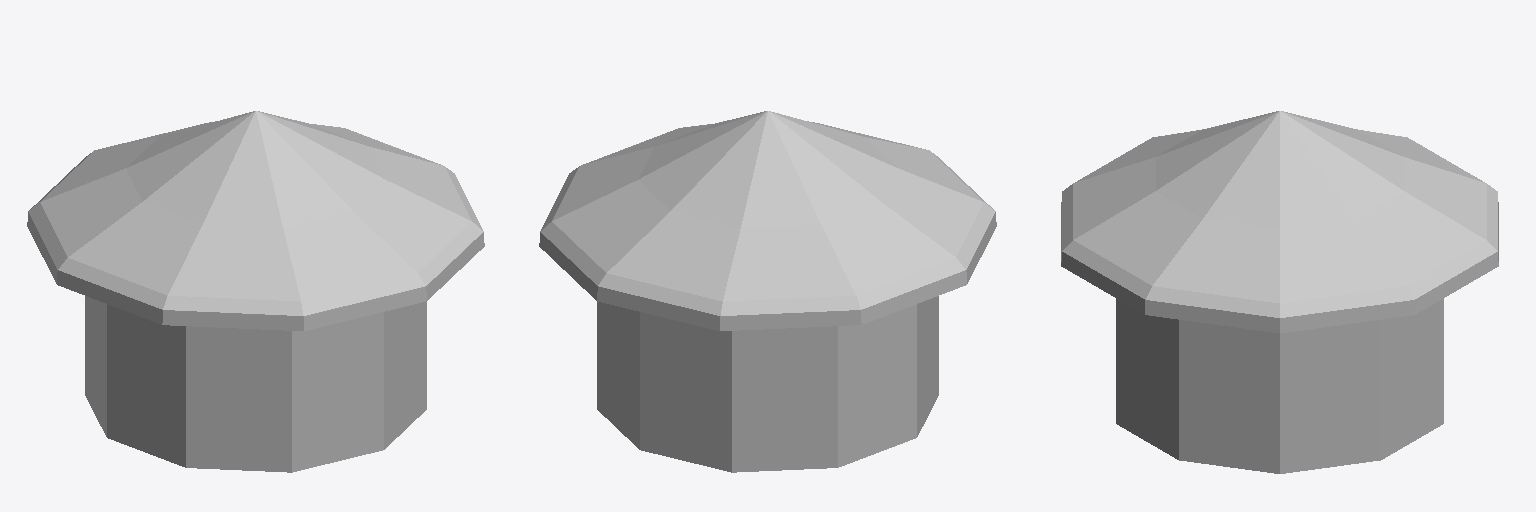
The model's file is Hut01.obj.
3 views of the same model, side by side, from view 1: azimuth 30°, elevation 25°; view 2: azimuth 150°, elevation 25°; view 3: azimuth 270°, elevation 25° (orthographic).
Parts seen in each view (by area): view 1: Hut01; view 2: Hut01; view 3: Hut01.
Boxes of the visible parts, x1=… form: Hut01: x1=27, y1=111, x2=484, y2=472; Hut01: x1=539, y1=111, x2=996, y2=472; Hut01: x1=1061, y1=111, x2=1498, y2=473.
Size of the model in its own units: 7.94 by 5.54 by 7.56.